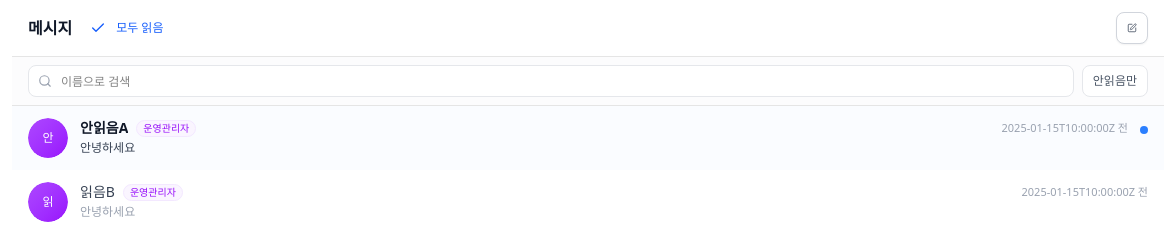
it: ConversationList › 안읽음만 토글 › "안읽음만" 토글 활성화 시 has_unread=true 인 대화만 노출된다
The image size is (1176, 239).
Click the button "안읽음만".
click(1115, 81)  # box [1082,65,1148,97]
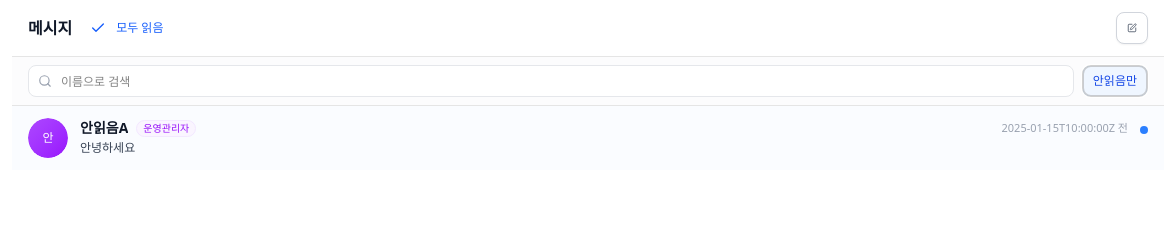
Expected: the text "안읽음A" is shown, [80,118,128,138]
Now the button "읽음B" is gone
